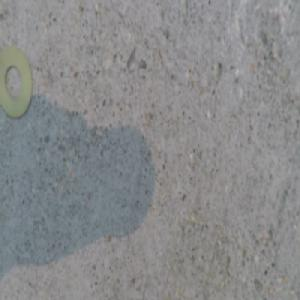Washer: (1, 48, 31, 121)
